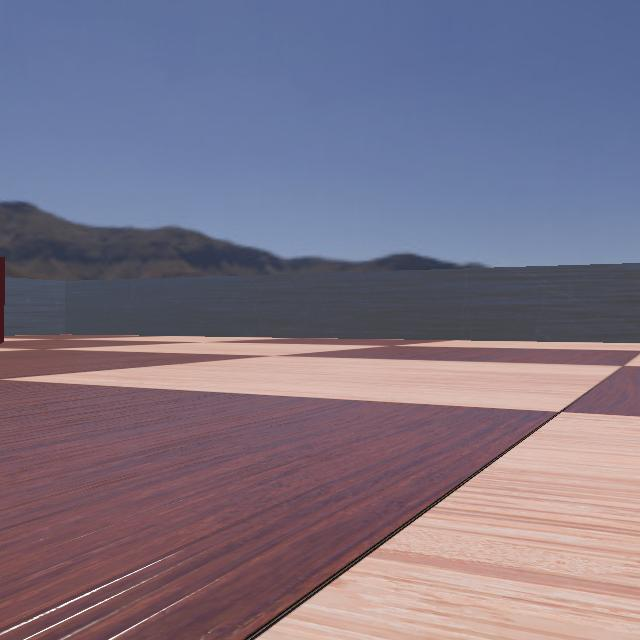plastic-crate: (1, 248, 23, 346)
